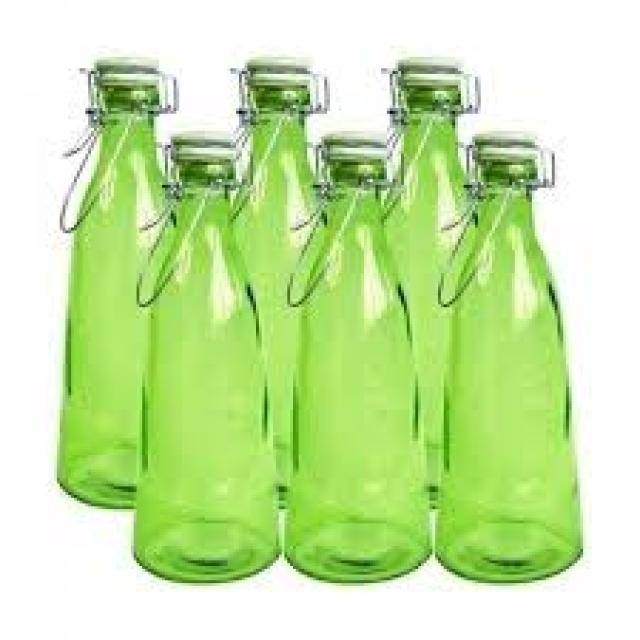glass: (433, 137, 581, 580), (282, 137, 430, 578), (131, 154, 276, 578), (57, 83, 173, 504), (384, 77, 472, 509), (228, 80, 316, 509)
